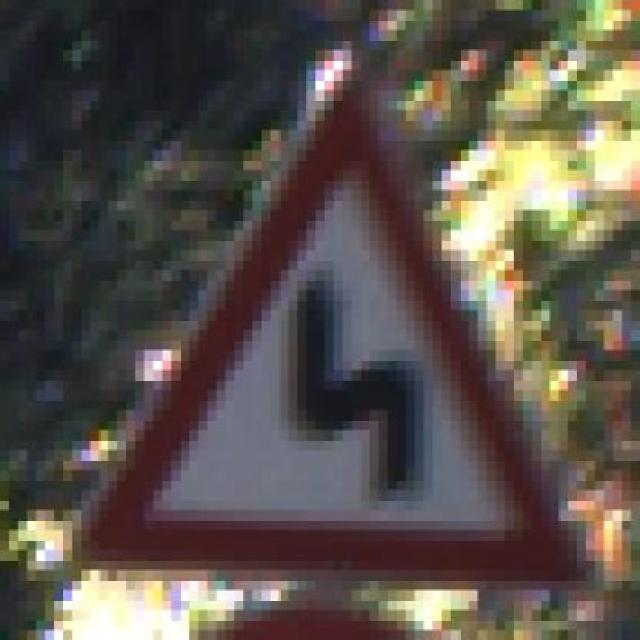Left Zig Zag Traffic: (63, 80, 595, 600)
